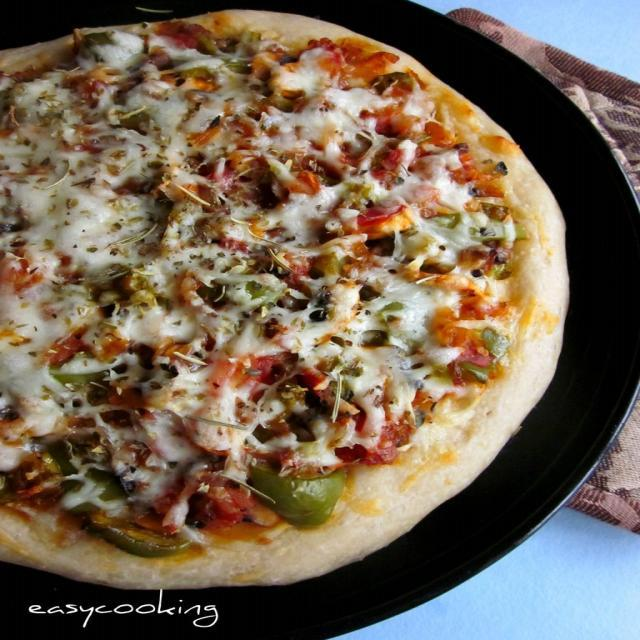Pizza: (0, 14, 593, 581)
